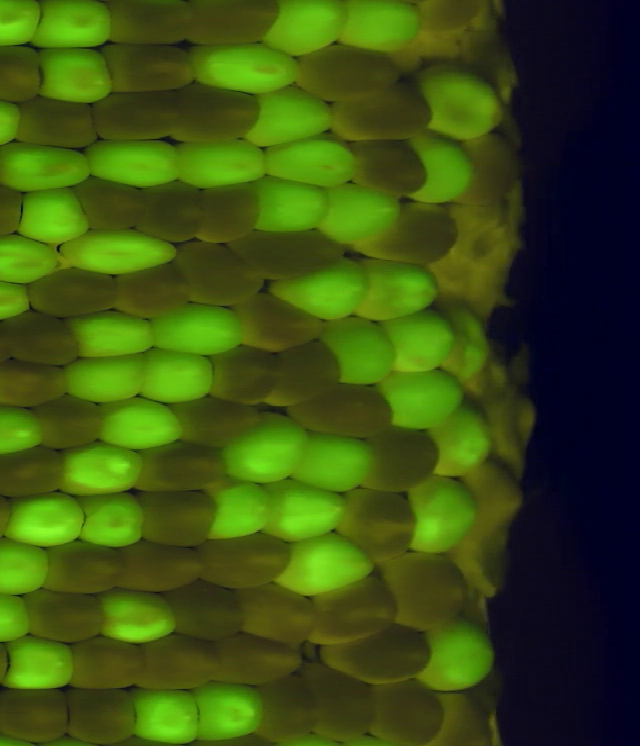fluorescent: (274, 532, 382, 594), (412, 616, 498, 693), (209, 414, 309, 480), (417, 63, 497, 140), (265, 259, 371, 317), (319, 316, 401, 388), (406, 474, 477, 557), (371, 369, 467, 429), (359, 254, 442, 322), (264, 476, 346, 543), (58, 227, 177, 273), (380, 305, 452, 378), (299, 424, 373, 495), (85, 137, 186, 189), (245, 88, 338, 144), (56, 440, 148, 496), (319, 181, 399, 245), (178, 139, 271, 192), (263, 1, 349, 58), (425, 407, 497, 475), (192, 45, 305, 87), (126, 682, 200, 746), (100, 588, 181, 646), (248, 176, 328, 234), (408, 137, 475, 206), (337, 1, 427, 52), (262, 135, 357, 183), (195, 680, 266, 744), (62, 352, 152, 402), (139, 346, 216, 404), (6, 493, 88, 547), (146, 307, 238, 355), (29, 1, 115, 52), (16, 187, 92, 244), (76, 488, 147, 548), (0, 140, 83, 191), (101, 398, 187, 447), (38, 48, 113, 104), (0, 633, 74, 689), (205, 481, 272, 541), (68, 311, 155, 355), (0, 537, 52, 597), (0, 233, 59, 285), (454, 305, 487, 383), (0, 1, 46, 51), (0, 403, 42, 454), (0, 589, 35, 641), (0, 275, 31, 321), (283, 737, 341, 746), (344, 737, 390, 746)
nonfluorescent: (320, 623, 431, 685), (379, 550, 468, 627), (226, 225, 348, 280), (363, 197, 460, 266), (295, 662, 377, 741), (172, 237, 267, 305), (336, 487, 415, 565), (323, 87, 435, 141), (303, 579, 398, 642), (289, 384, 395, 440), (198, 527, 294, 587), (362, 676, 444, 745), (297, 46, 398, 102), (235, 291, 326, 347), (232, 581, 315, 641), (214, 632, 307, 685), (173, 85, 261, 141), (139, 630, 219, 691), (348, 138, 432, 196), (133, 486, 215, 545), (102, 43, 200, 92), (115, 541, 206, 593), (91, 91, 187, 140), (58, 685, 139, 743), (26, 266, 116, 318), (12, 97, 98, 151), (457, 135, 517, 212), (67, 633, 144, 693), (268, 342, 339, 407), (132, 444, 226, 492), (28, 588, 104, 646), (206, 346, 281, 404), (178, 394, 261, 446), (0, 683, 74, 741), (41, 540, 124, 591), (107, 265, 185, 319), (168, 584, 240, 642), (73, 175, 147, 231), (251, 680, 320, 740), (141, 179, 205, 243), (366, 429, 433, 490), (189, 1, 279, 45), (197, 183, 261, 243), (425, 691, 491, 746), (6, 314, 76, 365), (112, 1, 193, 45), (34, 396, 105, 444), (0, 361, 71, 408), (0, 453, 64, 499), (486, 305, 534, 361), (0, 41, 43, 103), (419, 1, 483, 33)
